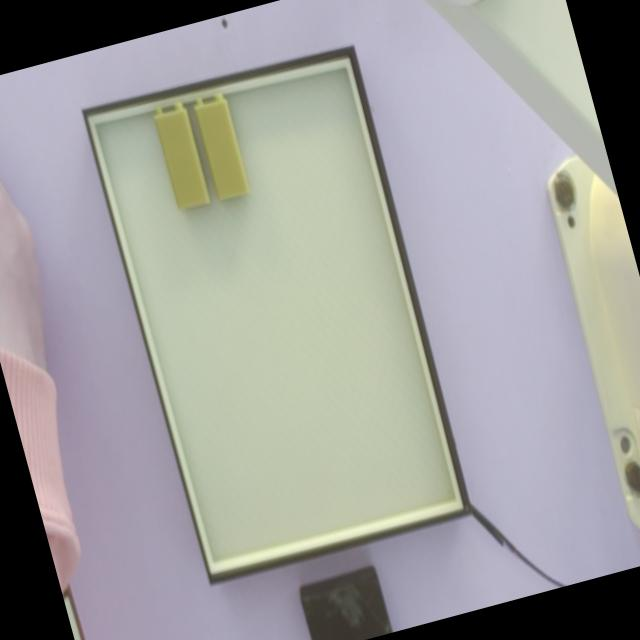bateria: (153, 102, 211, 208), (193, 93, 251, 199)
mesa: (81, 45, 473, 585)
